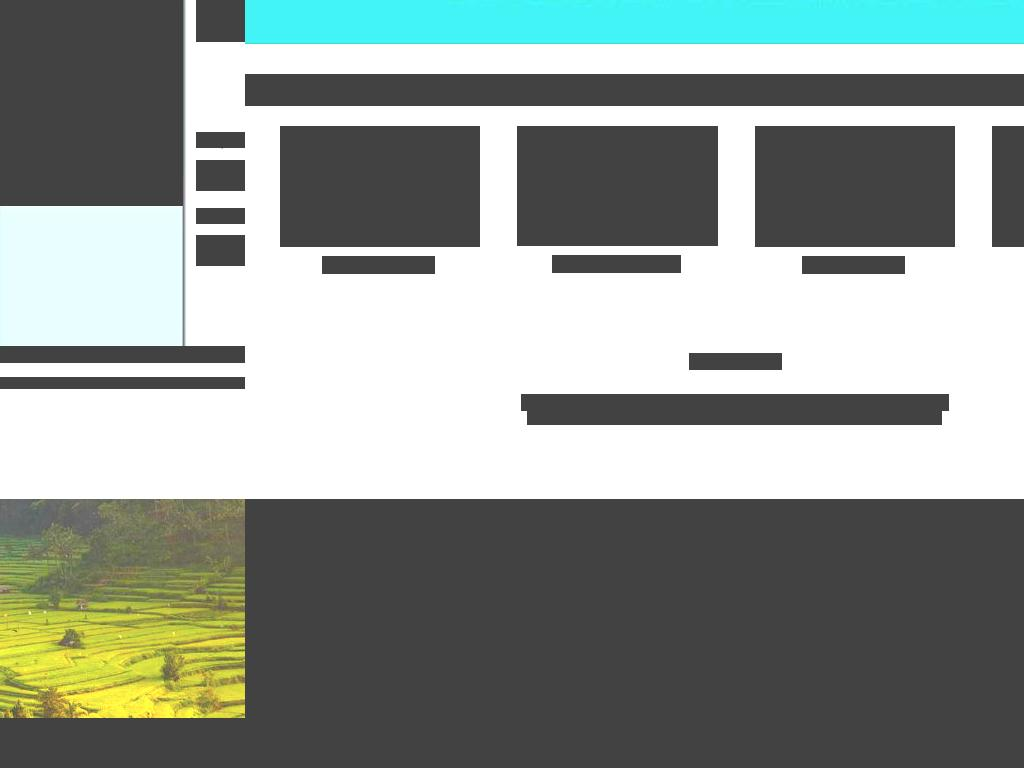button: (0, 5, 183, 23), (0, 22, 183, 40), (0, 39, 183, 57), (0, 56, 183, 74), (0, 73, 183, 91), (0, 90, 183, 108), (0, 107, 183, 125), (0, 124, 183, 142), (0, 141, 183, 159), (0, 158, 183, 176), (0, 175, 183, 191), (0, 190, 183, 206), (0, 0, 183, 6)
image: (245, 499, 1024, 768), (280, 126, 480, 247), (755, 126, 955, 247), (517, 126, 718, 246), (0, 346, 245, 363), (0, 743, 20, 768)
link: (694, 394, 849, 411), (552, 255, 681, 273), (322, 256, 435, 274), (802, 256, 905, 274), (689, 353, 782, 370), (521, 394, 606, 411), (864, 394, 949, 411), (621, 394, 678, 411)
text: (245, 74, 1024, 106), (527, 408, 942, 425), (0, 377, 245, 389), (196, 160, 245, 176), (196, 250, 245, 266), (605, 394, 623, 411), (848, 394, 866, 411), (677, 394, 694, 411)
